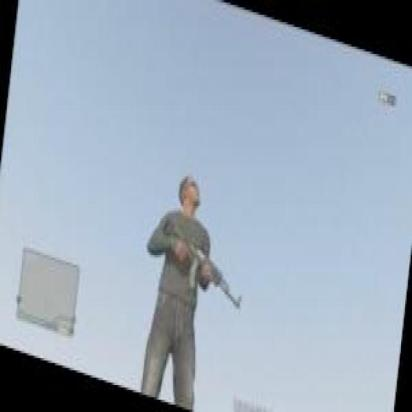Gun: (162, 216, 244, 312)
